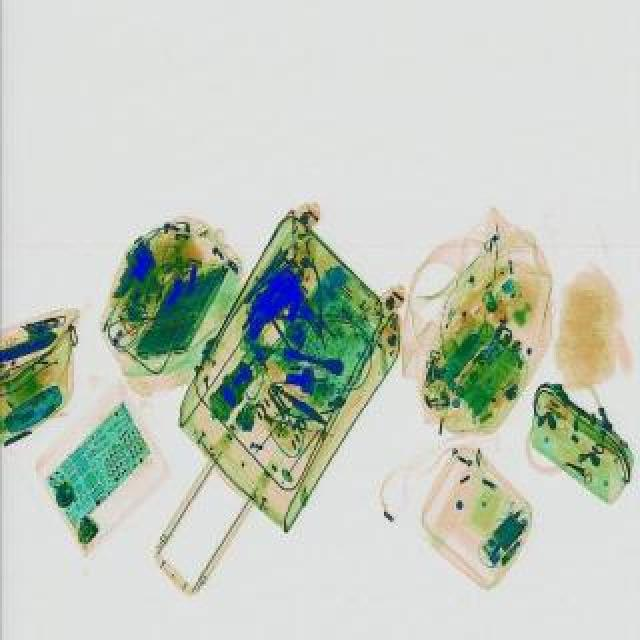wrench: (252, 264, 364, 366)
